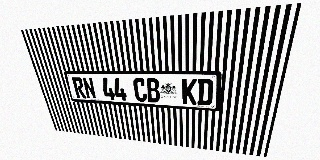4: (112, 78, 127, 101), (101, 78, 116, 100)
B: (146, 78, 160, 103)
C: (133, 78, 147, 102)
D: (197, 79, 213, 105)
K: (182, 79, 197, 105)
N: (82, 77, 97, 99)
R: (71, 77, 87, 99)
